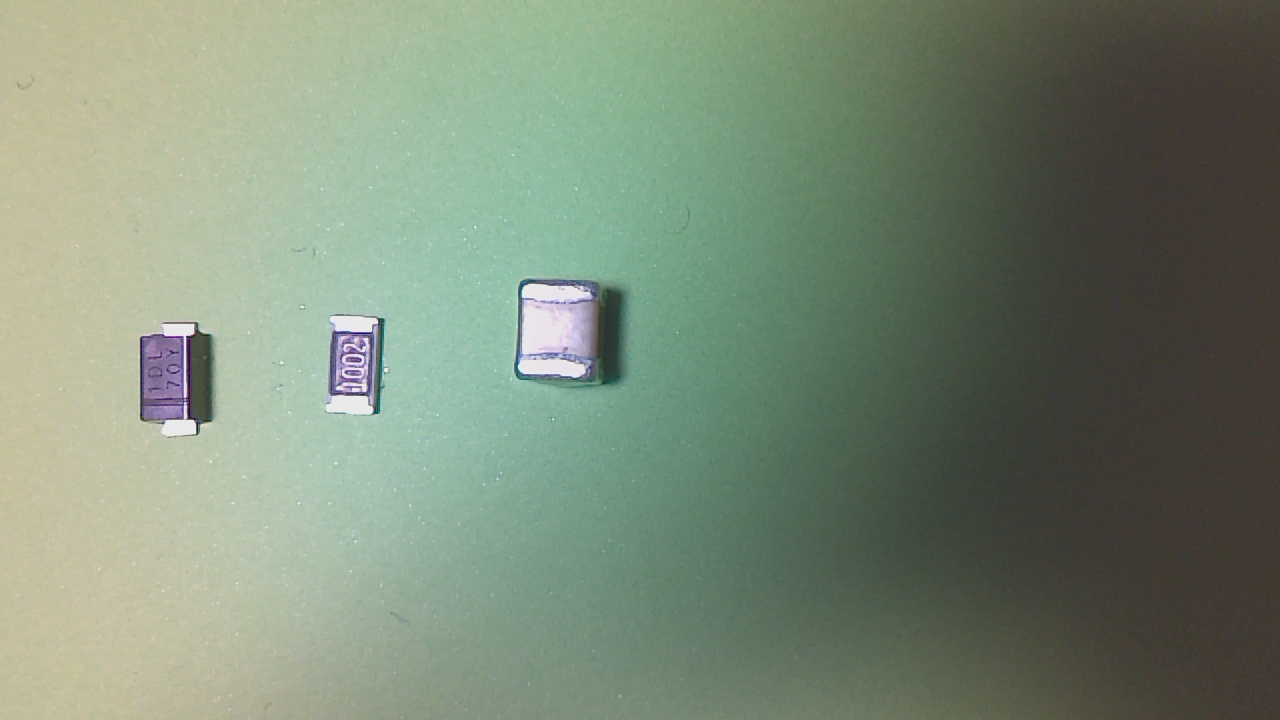Condensator: (515, 282, 613, 393)
Diode: (144, 326, 224, 445)
Resistor: (328, 324, 387, 425)
